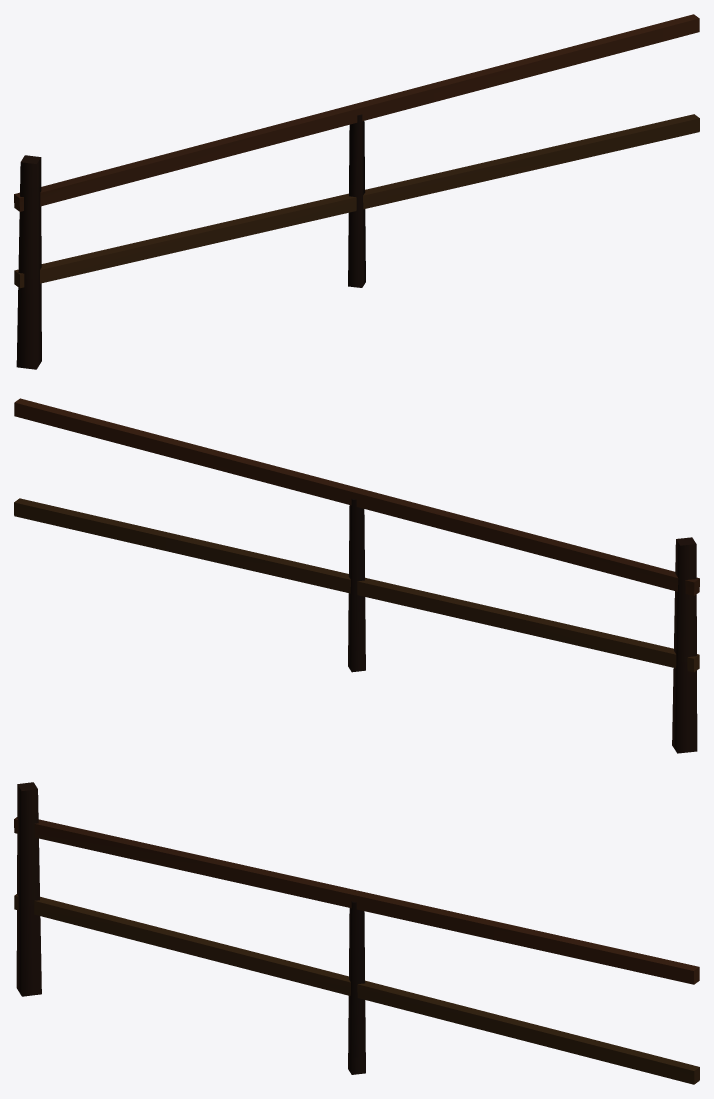
Rendered from fm_fence_lod1.glb.
3 renders of one model, top to bottom at view 1: azimuth 30°, elevation 25°; view 2: azimuth 150°, elevation 25°; view 3: azimuth 330°, elevation 25°, orthographic.
Parts seen in each view (by area): view 1: fm_fence_lod1; view 2: fm_fence_lod1; view 3: fm_fence_lod1.
Boxes of the visible parts, box(x1,y1,x2,y2) form: fm_fence_lod1: box(14, 14, 699, 369); fm_fence_lod1: box(14, 398, 699, 753); fm_fence_lod1: box(14, 782, 699, 1084).
Bounding box in the file's own units: 4.15 × 1.2 × 0.1567.
